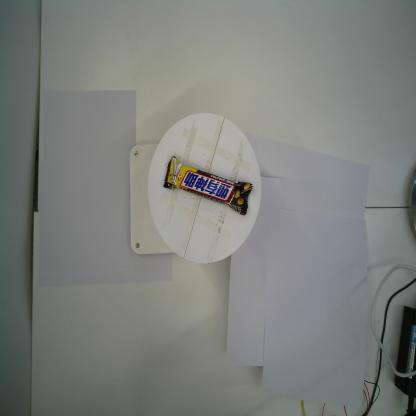Chocolate: (162, 155, 254, 216)
